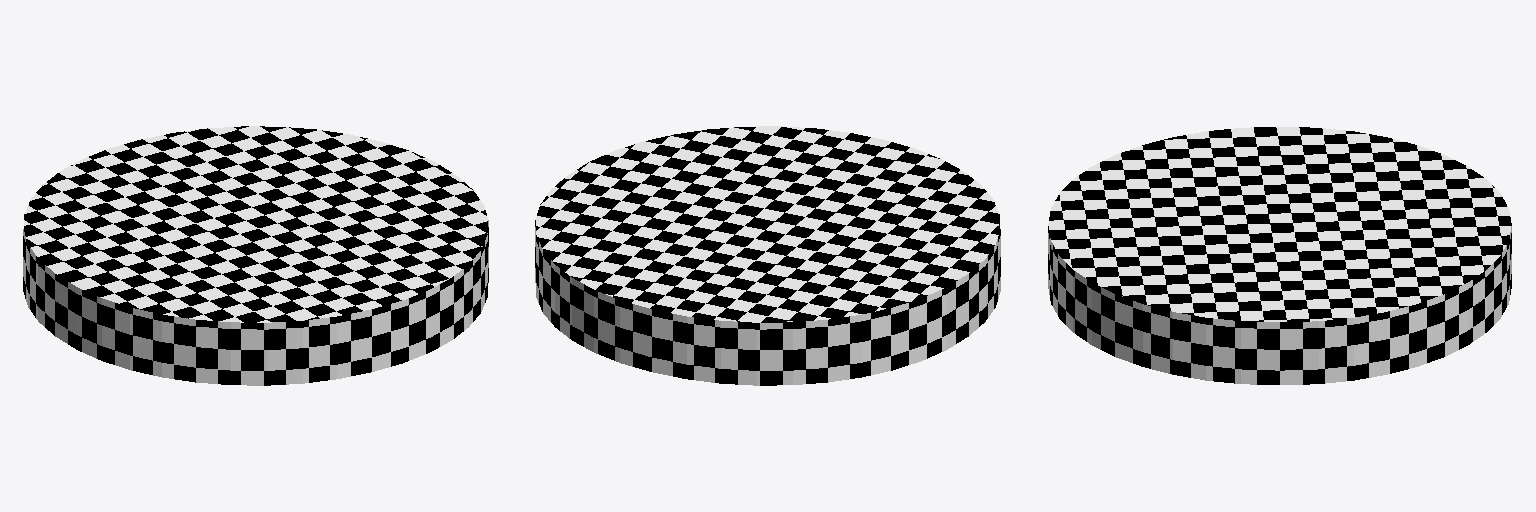
3 renders of one model, left to right at view 1: azimuth 30°, elevation 25°; view 2: azimuth 150°, elevation 25°; view 3: azimuth 270°, elevation 25°, orthographic.
Parts seen in each view (by area): view 1: floor_Plane.001; view 2: floor_Plane.001; view 3: floor_Plane.001.
Boxes of the visible parts, box(x1,y1,x2,y2) form: floor_Plane.001: box(23, 126, 488, 385); floor_Plane.001: box(535, 126, 1000, 385); floor_Plane.001: box(1048, 127, 1511, 384).
Size of the model in its own units: 57.57 by 8.62 by 57.57.
1 materials, 1 textured.